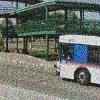buses: (55, 34, 100, 86)
